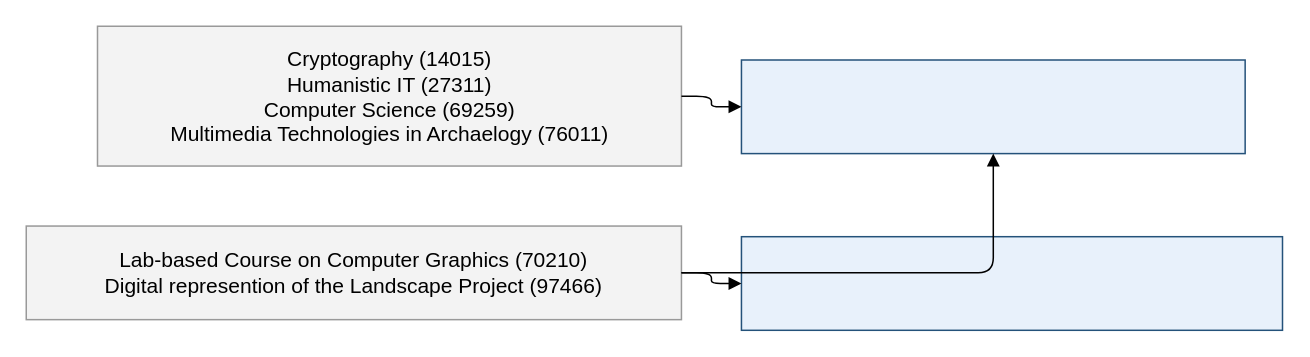
This 1310x357 diagram has some shape labels left out. The centre of each missing label's shape, as x and y in pixels:
Computer-Aided Landscape Representation 3 ECTS: (1011,282)
Digital Graphics and Media Foundations 6 ECTS: (992,106)
